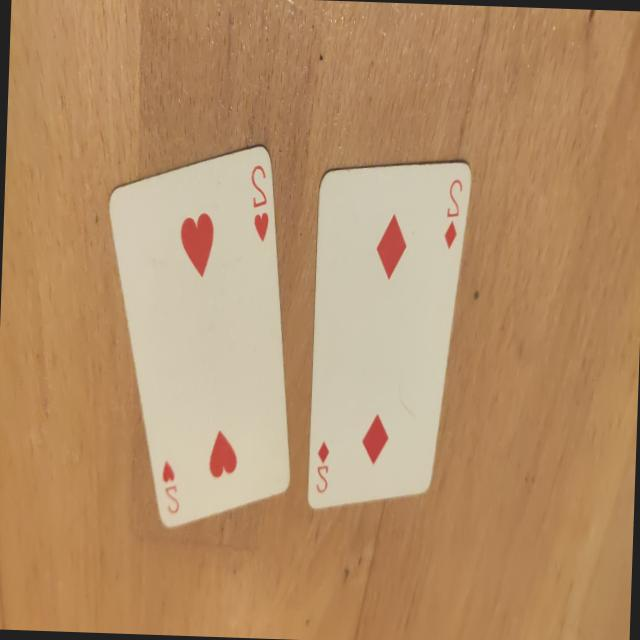Diamond: (375, 213, 407, 280), (361, 414, 389, 464), (444, 220, 456, 248), (317, 440, 329, 463)
Heart: (179, 212, 214, 278), (209, 430, 238, 478), (253, 212, 268, 242), (162, 461, 175, 482)
